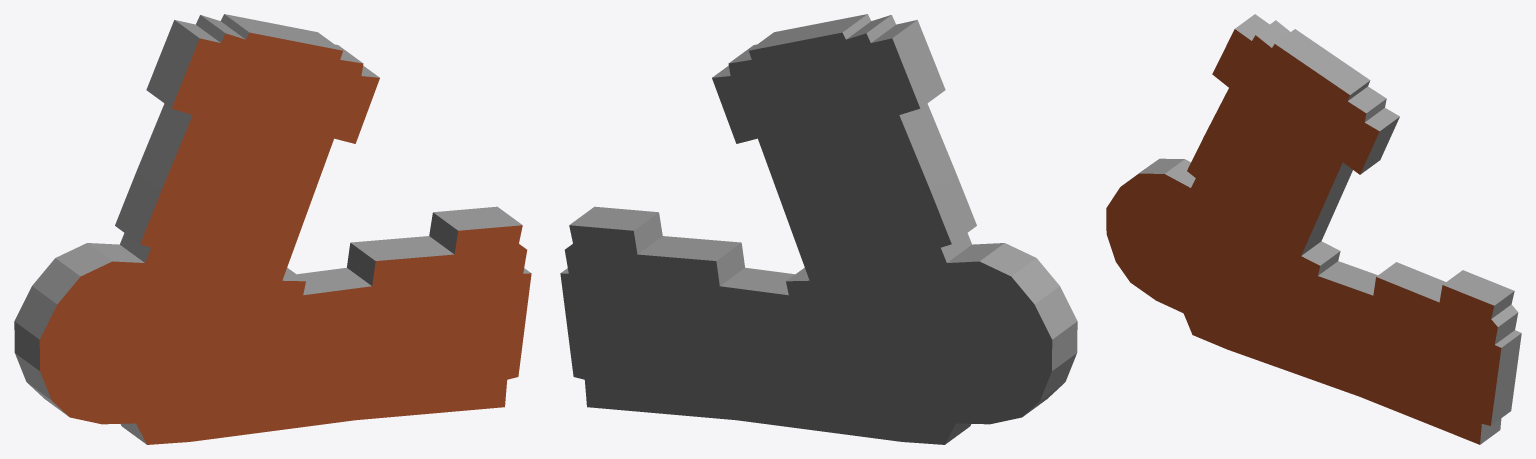
The model's file is construction_6756_assumed_A_Casa_h6m.obj.
3 views of the same model, side by side, from view 1: azimuth 30°, elevation 25°; view 2: azimuth 150°, elevation 25°; view 3: azimuth 330°, elevation 25° (orthographic). The views are drawn at different scales.
Parts seen in each view (by area): view 1: construction_6756_assumed_A_Casa; view 2: construction_6756_assumed_A_Casa; view 3: construction_6756_assumed_A_Casa.
Boxes of the visible parts, x1,y1,x2,y2 form: construction_6756_assumed_A_Casa: (14,14,531,444); construction_6756_assumed_A_Casa: (560,14,1077,444); construction_6756_assumed_A_Casa: (1106,14,1521,444).
Bounding box in the file's own units: 67.26 × 57.93 × 6.
